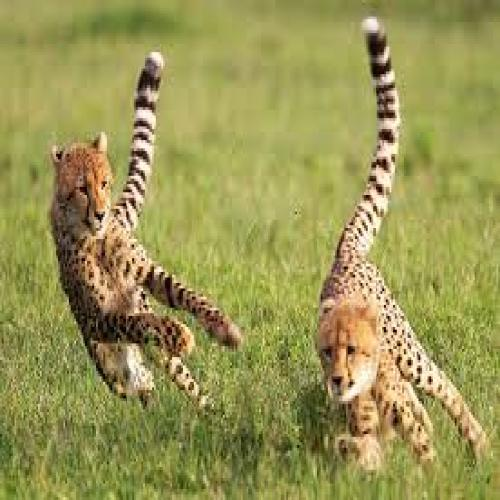cheetah-endangered: (306, 21, 487, 466), (49, 52, 242, 418)
